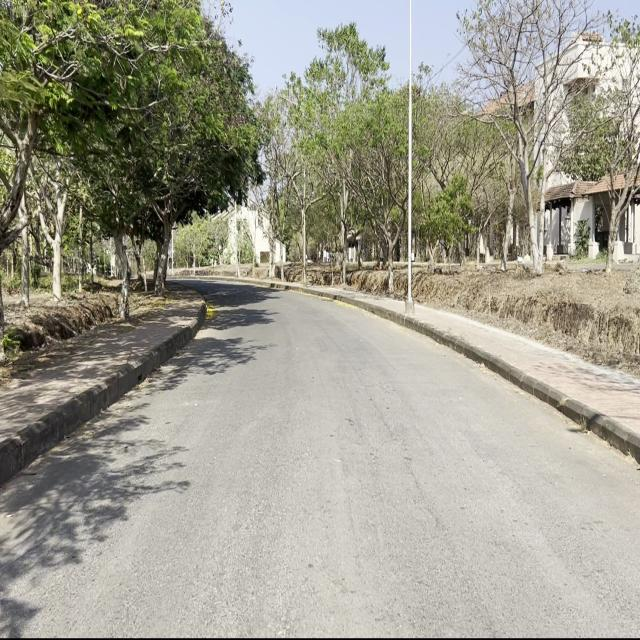Road: (2, 280, 637, 631)
